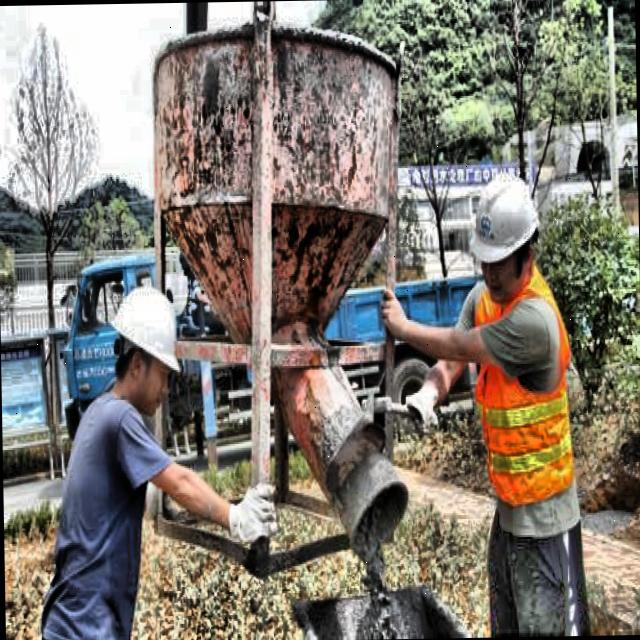helmet: (463, 160, 549, 302), (102, 275, 186, 417)
